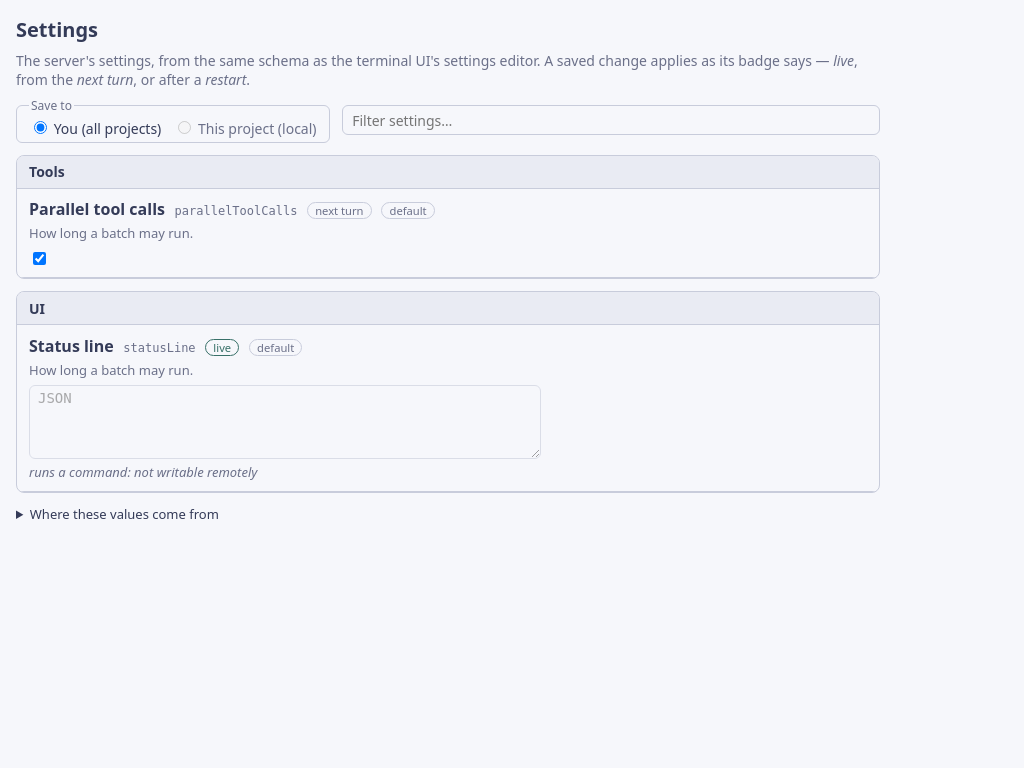
Test: SettingsView › stages a change, previews it and saves it
Click the checkbox with test id "settings-input" showing "Parallel tool calls" at point(40, 258), box [33,252,46,265]
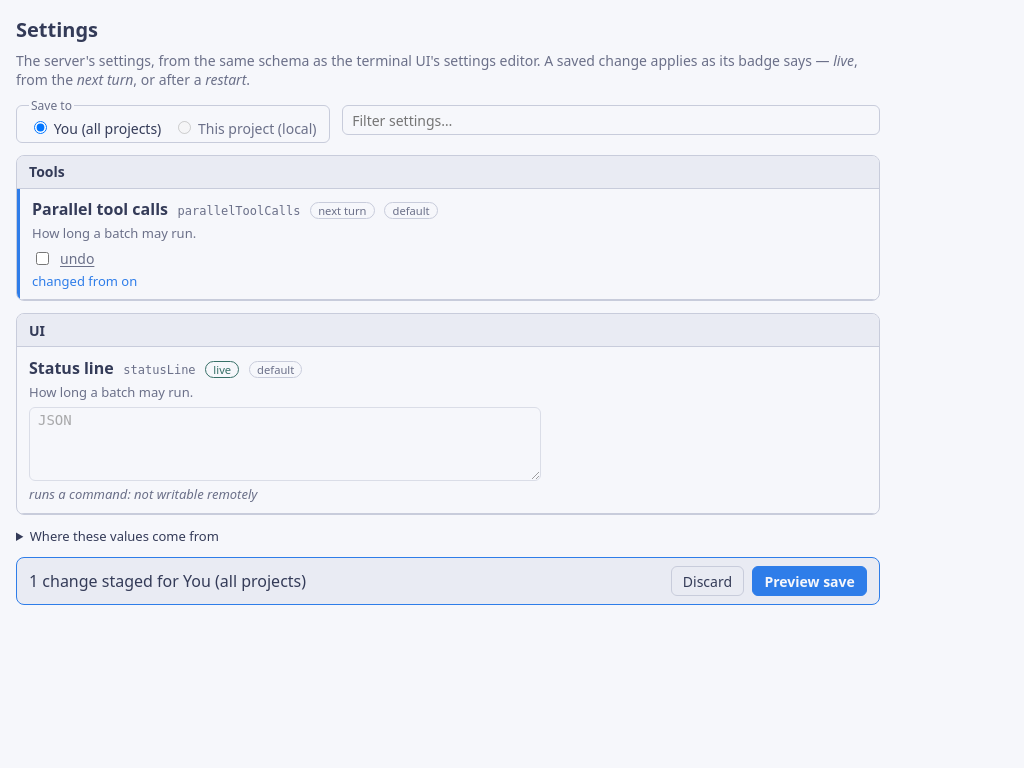
Expected: the text with test id "settings-staged-count" reads "1 change staged for You (all projects)", [29,570,306,592]
Click the button with test id "settings-preview-button" at point(810, 581), box [752,566,867,596]
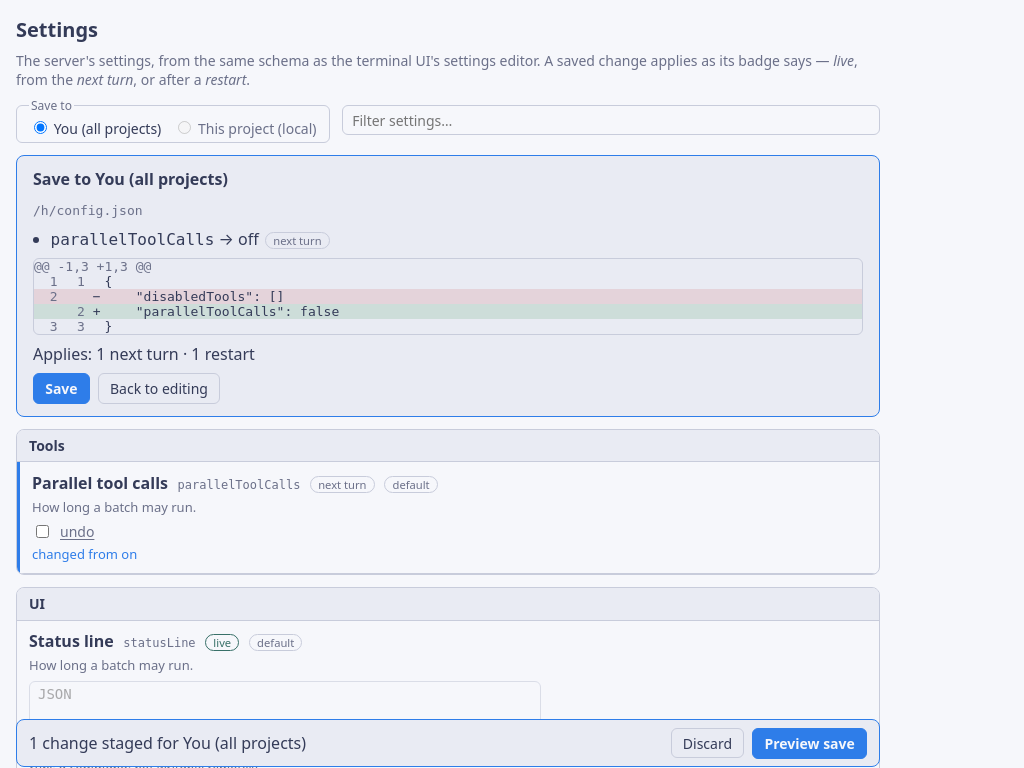
Expected: the element with test id "settings-preview" is shown, [16,155,880,417]
Click the button with test id "settings-save" at point(61, 388), box [33,373,90,404]
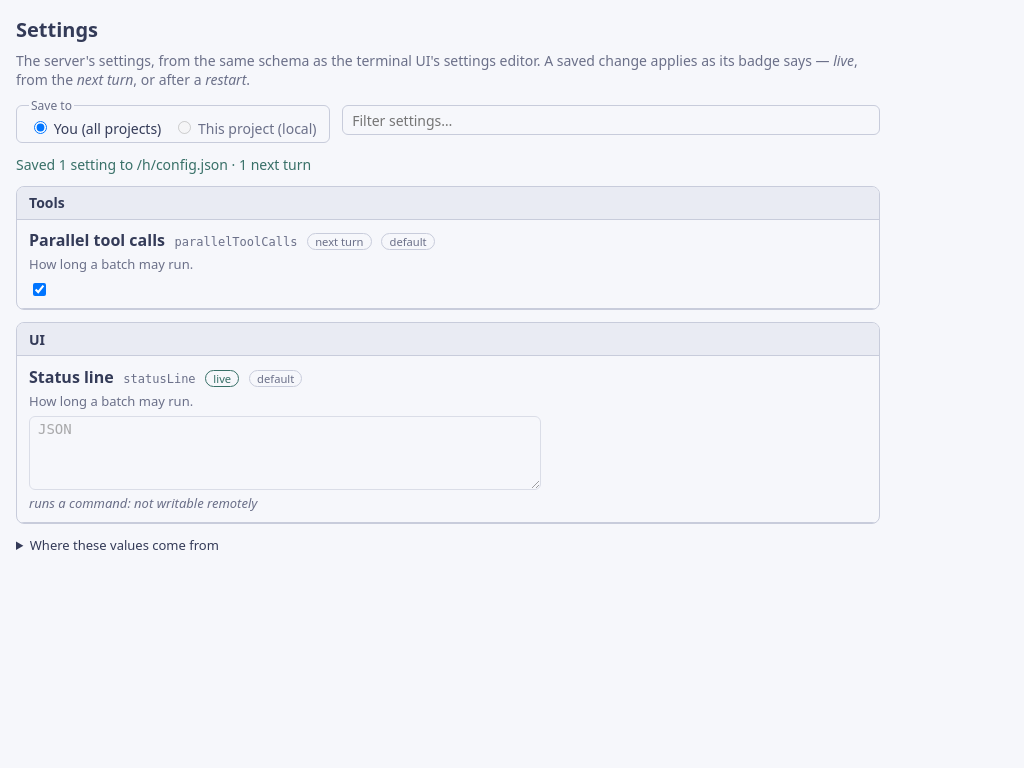
Expected: the message with test id "settings-saved" reads "Saved 1 setting to /h/config.json · 1 next turn", [16,155,311,174]
